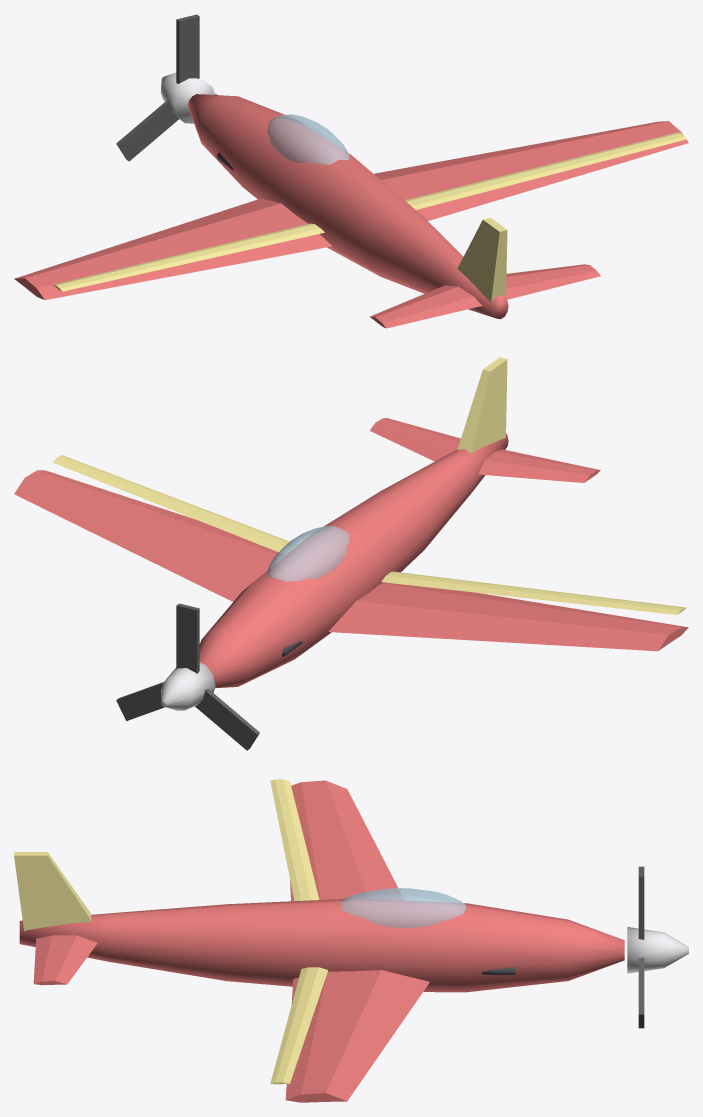
File: plane_interceptor.glb
The picture shows the model from 3 angles, top to bottom: view 1: azimuth 30°, elevation 25°; view 2: azimuth 150°, elevation 25°; view 3: azimuth 270°, elevation 25°; orthographic projection.
Visible parts, largest first — view 1: Interceptor_Body, Prop_Interceptor, Interceptor_Glass; view 2: Interceptor_Body, Prop_Interceptor, Interceptor_Glass; view 3: Interceptor_Body, Interceptor_Glass, Prop_Interceptor.
Boxes of the visible parts, x1,y1,x2,y2 form: Interceptor_Body: [14, 94, 688, 328]; Prop_Interceptor: [116, 14, 218, 161]; Interceptor_Glass: [267, 114, 349, 164]; Interceptor_Body: [14, 357, 688, 688]; Prop_Interceptor: [116, 603, 259, 750]; Interceptor_Glass: [267, 526, 349, 581]; Interceptor_Body: [14, 779, 624, 1102]; Interceptor_Glass: [340, 888, 466, 928]; Prop_Interceptor: [627, 866, 688, 1028].
Bounding box in the file's own units: 13.2 × 2.86 × 12.05.
